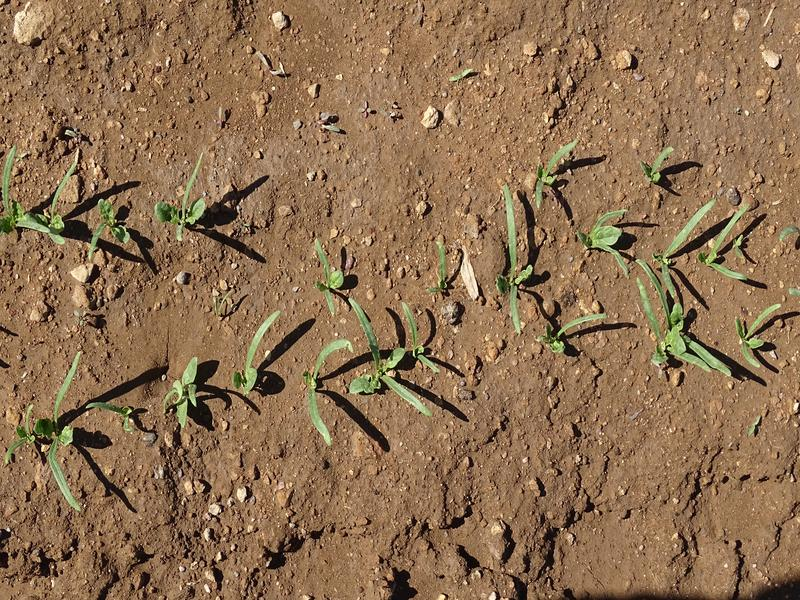Espinaca: (637, 149, 779, 381), (293, 246, 434, 447), (14, 350, 94, 508), (1, 147, 83, 237), (157, 151, 212, 243), (533, 135, 581, 224), (231, 311, 277, 399), (504, 189, 531, 327), (76, 194, 129, 264), (545, 302, 612, 354), (162, 362, 213, 430), (589, 205, 633, 266)
